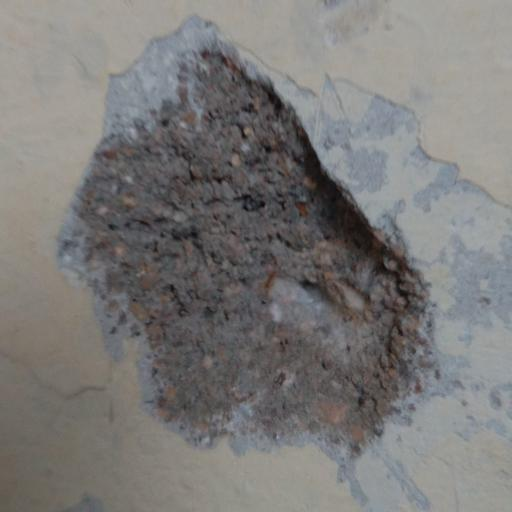spalling: (57, 26, 431, 481)
